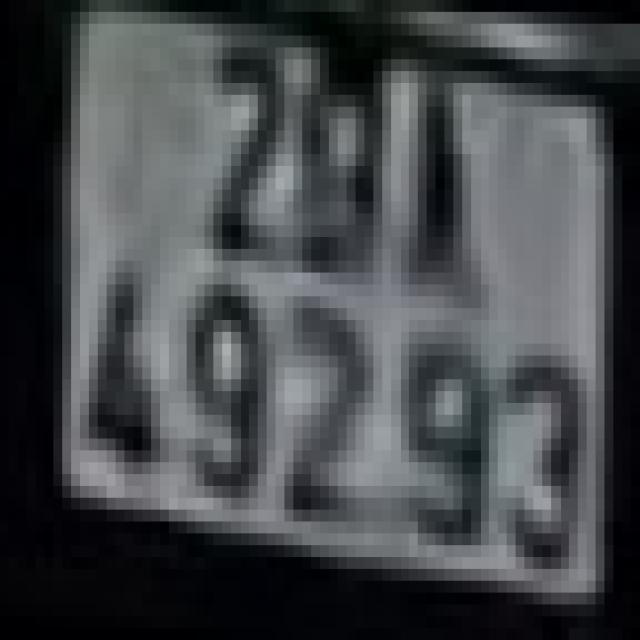2: (284, 296, 374, 522), (204, 41, 284, 255)
3: (506, 355, 586, 569)
4: (80, 261, 160, 486)
9: (182, 278, 271, 504), (400, 332, 489, 545)
A: (400, 77, 498, 314)
